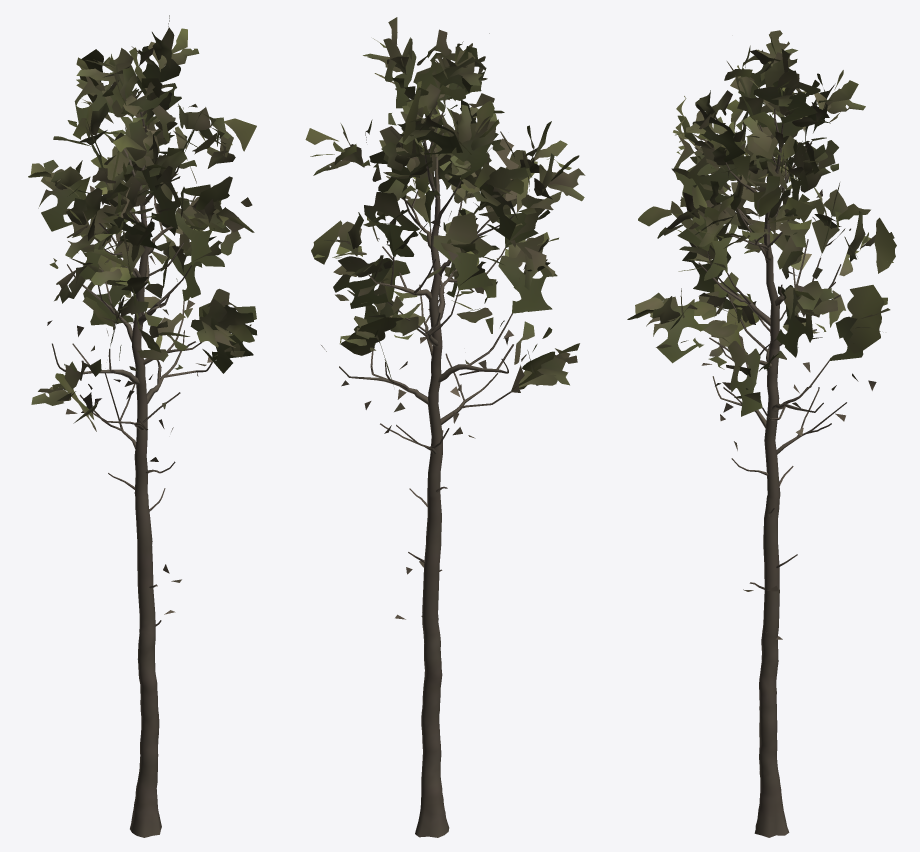
Rendered from SM_BlackAlder_Forest_02_PP_LOD4.gltf.
3 renders of one model, left to right at view 1: azimuth 30°, elevation 25°; view 2: azimuth 150°, elevation 25°; view 3: azimuth 270°, elevation 25°, orthographic.
Visible parts, largest first — view 1: SM_BlackAlder_Forest_02_PP; view 2: SM_BlackAlder_Forest_02_PP; view 3: SM_BlackAlder_Forest_02_PP.
Boxes of the visible parts, bbox=[...] form: SM_BlackAlder_Forest_02_PP: bbox=[28, 15, 256, 837]; SM_BlackAlder_Forest_02_PP: bbox=[305, 17, 585, 837]; SM_BlackAlder_Forest_02_PP: bbox=[627, 30, 896, 837].
Size of the model in its own units: 6.46 by 19.9 by 6.34.
2 materials, 2 textured.
